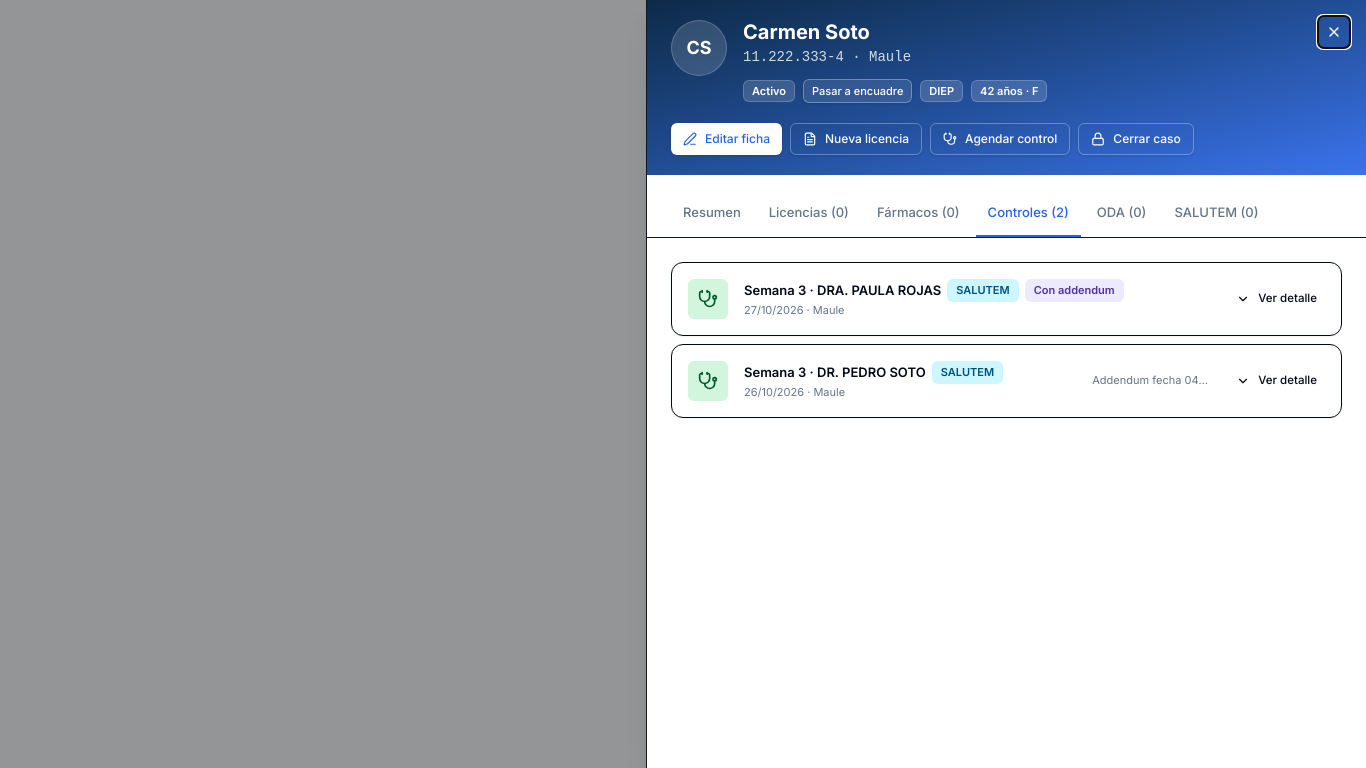
Scenario: PatientSheet — pestaña Controles (QA-008) › las observaciones largas se pueden leer completas
Expected: the text titled "Addendum fecha 04-11-2026, cambio número de días de 4 a 5" is shown, x1=1092 y1=372 x2=1212 y2=389
Click the button with test id "btn-detalle-control-2" at (1277, 380), box x1=1228 y1=366 x2=1325 y2=394
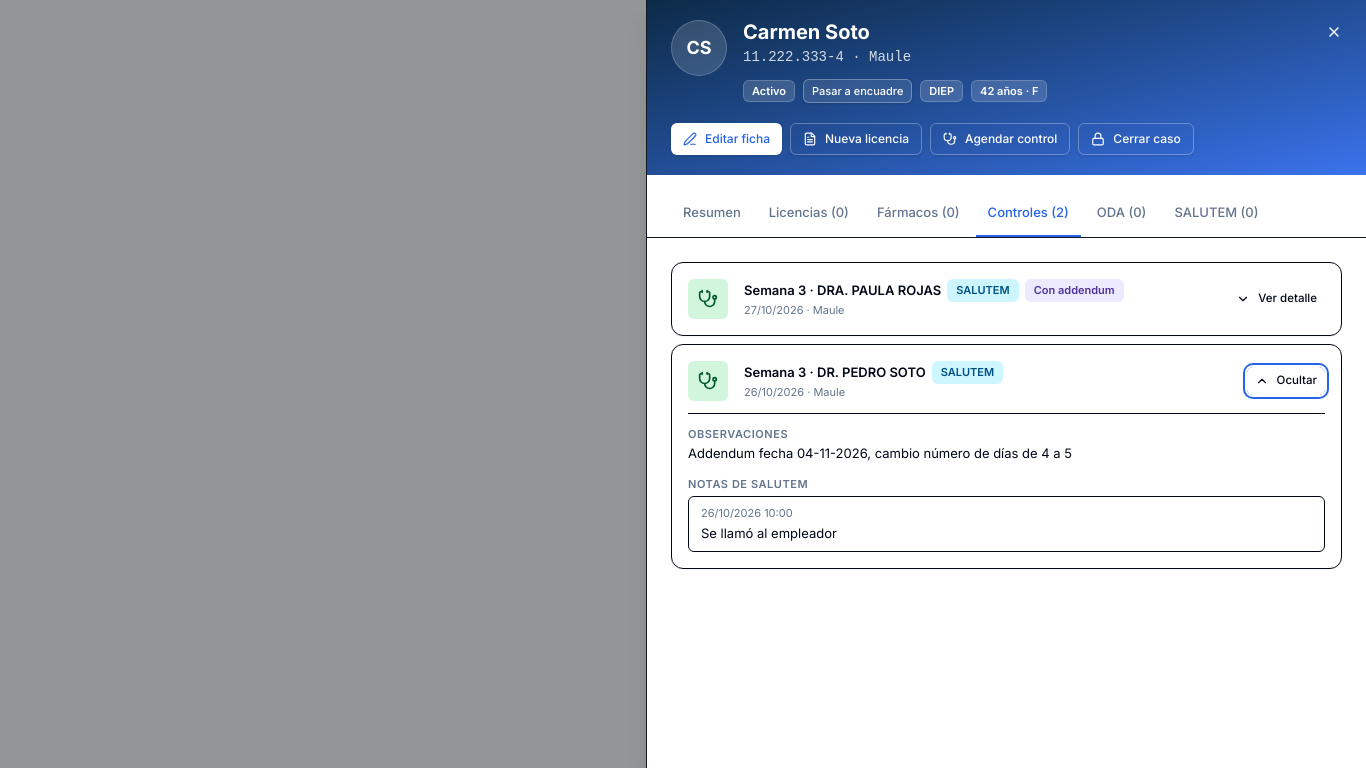
Expected: the text "Addendum fecha 04-11-2026, cambio número de días de 4 a 5" is shown, x1=688 y1=445 x2=1072 y2=461
Now the heading "Notas de SALUTEM" is shown, box x1=688 y1=476 x2=808 y2=490
